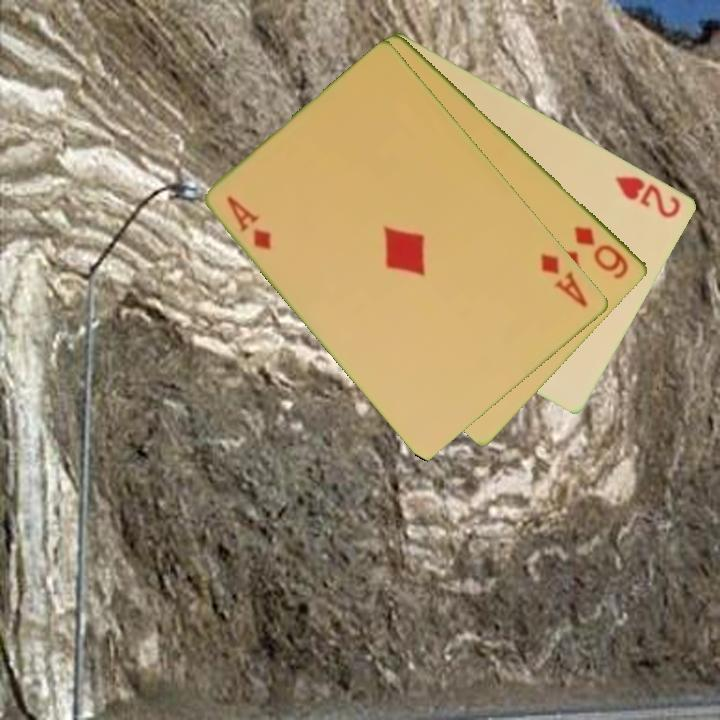2h: (612, 172, 685, 221)
6d: (571, 222, 632, 282)
Ad: (537, 249, 591, 310), (223, 192, 276, 253)
